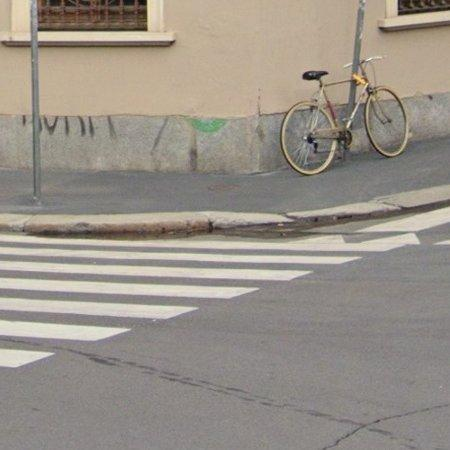crosswalks: (0, 233, 423, 386)
